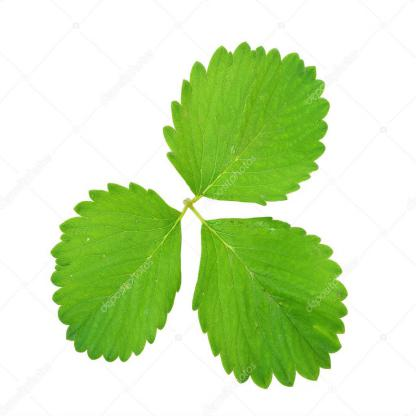strawberry leaf: (189, 211, 354, 395), (167, 23, 334, 204), (43, 170, 183, 370)
